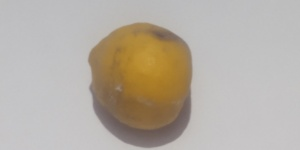BAD: (85, 23, 191, 132)
